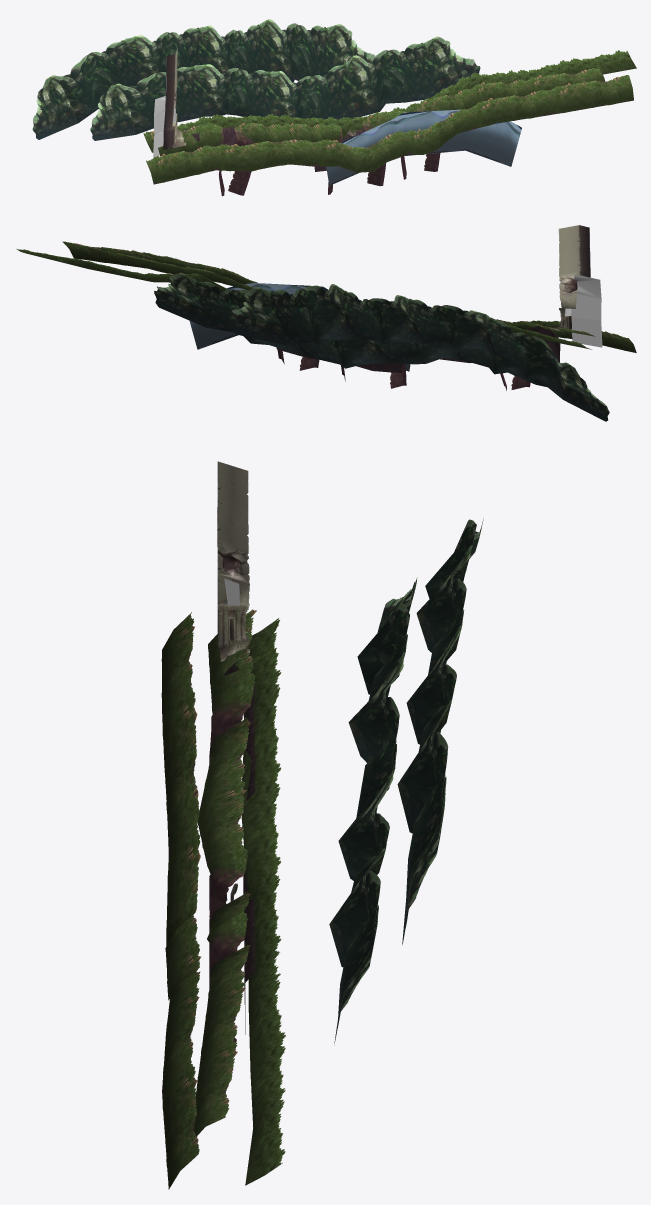
The model's file is Lost Temple Part 3.FBX.
3 views of the same model, one above another, from view 1: azimuth 30°, elevation 25°; view 2: azimuth 150°, elevation 25°; view 3: azimuth 270°, elevation 25° (orthographic). The views are drawn at different scales.
Parts seen in each view (by area): view 1: Jungle Rock BG Pt 3, Floor FG Pt3 _2, Floor FG Pt 3, Forest Fog Pt 3, Floor BG Pt 3 _ 2, Floor Pt 3 _2, Floor PT 3, Floor BG0 Pt 3, Floor Fall Pt 3 _2, Floor Fall Pt 3, Temple Exit Exterior 2, Temple Exit Exterior Hide (+2 smaller); view 2: Jungle Rock BG Pt 3, Temple Exit Exterior Hide, Temple Exit Exterior 2, Floor FG Pt3 _2, Floor Pt 3 _2, Floor BG Pt 3 _ 2, Forest Fog Pt 3, Fall Pt 3, Floor FG Pt 3, Floor Fall Pt 3 _2, Temple Exit Exterior, Floor BG0 Pt 3 (+2 smaller); view 3: Jungle Rock BG Pt 3, Floor FG Pt 3, Floor BG Pt 3 _ 2, Floor FG Pt3 _2, Floor BG0 Pt 3, Floor PT 3, Floor Pt 3 _2, Floor Fall Pt 3 _2, Temple Exit Exterior 2, Floor Fall Pt 3, Temple Exit Exterior, Fall Pt 3.
Boxes of the visible parts, x1,y1,x2,y2 form: Jungle Rock BG Pt 3: (32, 19, 480, 140); Floor FG Pt3 _2: (380, 75, 633, 162); Floor FG Pt 3: (146, 139, 385, 184); Forest Fog Pt 3: (326, 109, 521, 185); Floor BG Pt 3 _ 2: (340, 50, 636, 135); Floor Pt 3 _2: (381, 68, 605, 121); Floor PT 3: (150, 122, 331, 156); Floor BG0 Pt 3: (143, 114, 345, 152); Floor Fall Pt 3 _2: (326, 98, 442, 194); Floor Fall Pt 3: (206, 123, 259, 196); Temple Exit Exterior 2: (165, 47, 177, 113); Temple Exit Exterior Hide: (153, 96, 175, 157); Jungle Rock BG Pt 3: (154, 272, 609, 421); Temple Exit Exterior Hide: (565, 274, 602, 347); Temple Exit Exterior 2: (558, 225, 590, 295); Floor FG Pt3 _2: (62, 241, 257, 284); Floor Pt 3 _2: (83, 246, 253, 290); Floor BG Pt 3 _ 2: (16, 249, 227, 291); Forest Fog Pt 3: (189, 283, 410, 371); Fall Pt 3: (276, 324, 560, 373); Floor FG Pt 3: (494, 319, 636, 352); Floor Fall Pt 3 _2: (277, 350, 406, 388); Temple Exit Exterior: (549, 293, 576, 331); Floor BG0 Pt 3: (506, 324, 591, 349); Jungle Rock BG Pt 3: (329, 519, 483, 1043); Floor FG Pt 3: (161, 612, 200, 946); Floor BG Pt 3 _ 2: (245, 876, 285, 1185); Floor FG Pt3 _2: (162, 915, 201, 1189); Floor BG0 Pt 3: (241, 618, 281, 901); Floor PT 3: (197, 609, 256, 863); Floor Pt 3 _2: (193, 903, 248, 1136); Floor Fall Pt 3 _2: (207, 841, 250, 1049); Temple Exit Exterior 2: (217, 461, 249, 583); Floor Fall Pt 3: (209, 673, 255, 763); Temple Exit Exterior: (217, 574, 250, 661); Fall Pt 3: (224, 653, 255, 1034).
Size of what is drawn, in the model's own units: 12881 by 3256 by 4186.
